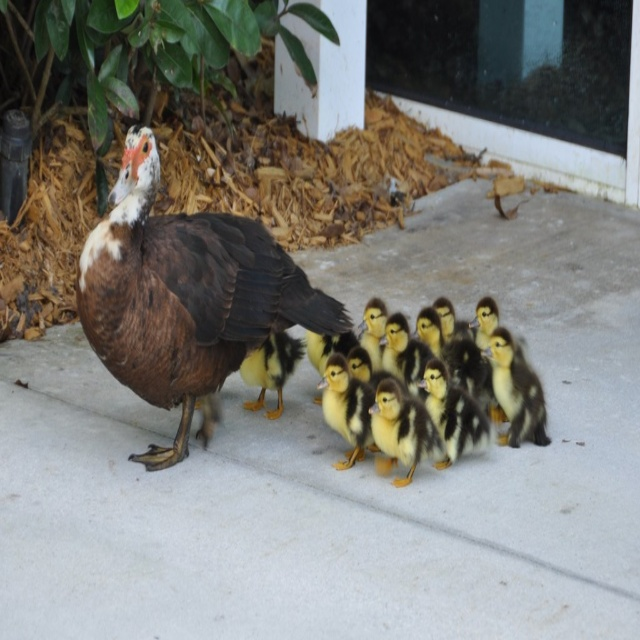Duck: (84, 112, 361, 468), (234, 295, 540, 506)
